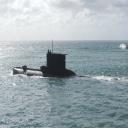submarine: (9, 51, 116, 82)
